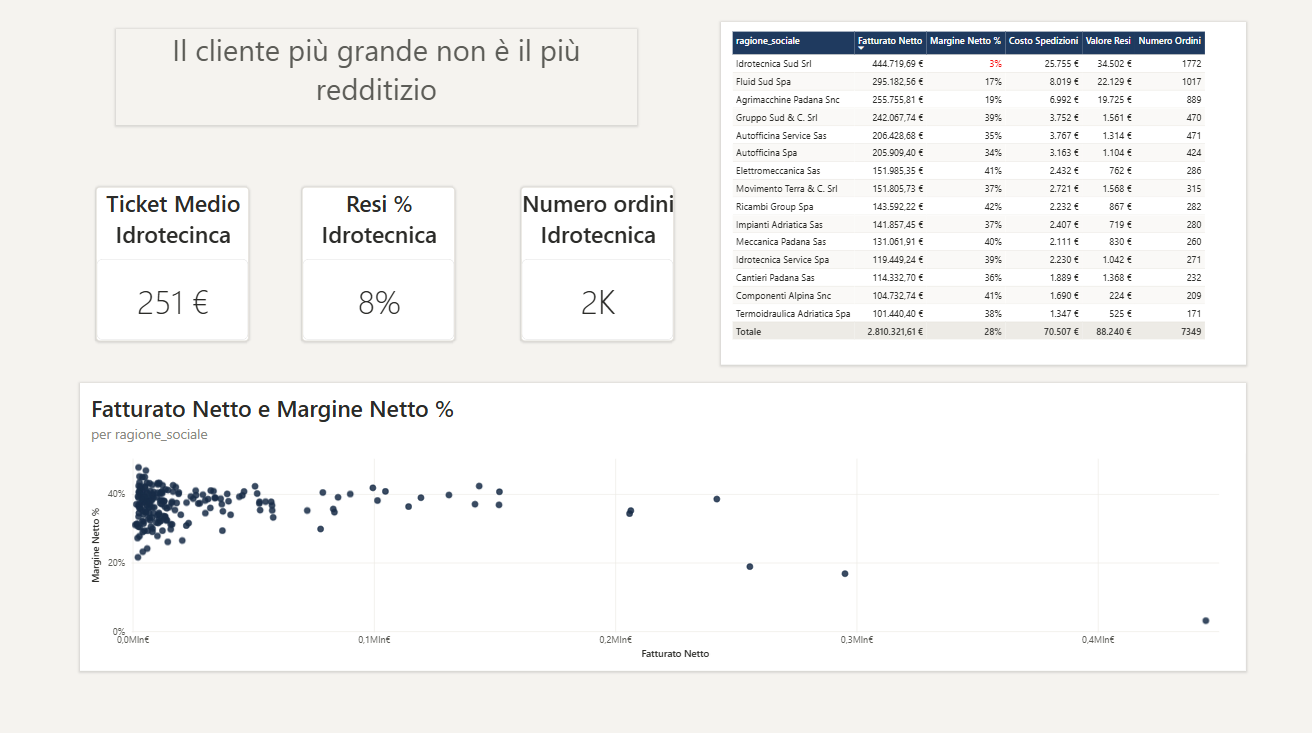

This screenshot's page, from the dashboard's own definition file:
{"tool":"powerbi","page":{"name":"Clienti","canvas":[1920,1080],"ordinal":1},"visuals":[{"type":"textbox","box":[170,49.6,760.1,140.1],"z":0},{"type":"tableEx","fields":{"Values":["anagrafica_clienti.ragione_sociale","_Misure.Fatturato Netto","_Misure.Margine Netto %","_Misure.Costo Spedizioni","_Misure.Valore Resi","_Misure.Numero Ordini"]},"box":[1053.4,39.4,766,500.4],"z":1000},{"type":"scatterChart","fields":{"X":["_Misure.Fatturato Netto"],"Y":["_Misure.Margine Netto %"],"Category":["anagrafica_clienti.ragione_sociale"]},"box":[118.2,566.1,1701.2,420.2],"z":2000},{"type":"cardVisual","title":"Ticket Medio Idrotecinca","fields":{"Data":["_Misure.Ticket Medio"]},"box":[141.5,280.1,223.2,224.7],"z":3000},{"type":"cardVisual","title":"Numero ordini Idrotecnica","fields":{"Data":["_Misure.Numero Ordini"]},"box":[761.6,280.1,223.4,224.8],"z":4000},{"type":"cardVisual","title":"Resi % Idrotecnica","fields":{"Data":["_Misure.Incidenza Resi %"]},"box":[442.1,280.1,223.2,224.7],"z":5000}]}

Visuals, with their boxes in screenshot pixels (x1, y1, x2, y2), scaled from the page's 1920x1080 canvas onto the 1312x733 screenshot:
textbox: 116,34,636,129
tableEx - anagrafica_clienti.ragione_sociale x _Misure.Fatturato Netto: 720,27,1243,366
scatterChart - _Misure.Fatturato Netto x _Misure.Margine Netto %: 81,384,1243,669
"Ticket Medio Idrotecinca" cardVisual: 97,190,249,343
"Numero ordini Idrotecnica" cardVisual: 520,190,673,343
"Resi % Idrotecnica" cardVisual: 302,190,455,343
